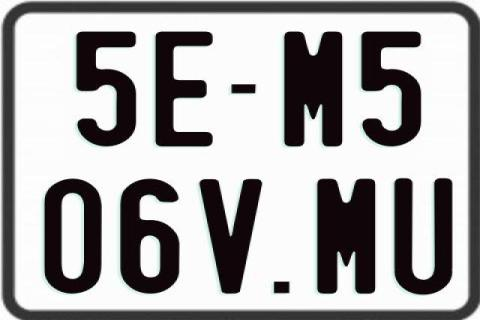0: (76, 29, 142, 144), (119, 177, 181, 296), (358, 29, 422, 144), (42, 178, 103, 298)
E: (154, 30, 215, 146)
M: (282, 31, 344, 150), (317, 176, 377, 296)
U: (391, 177, 450, 293)
V: (198, 177, 264, 291)
